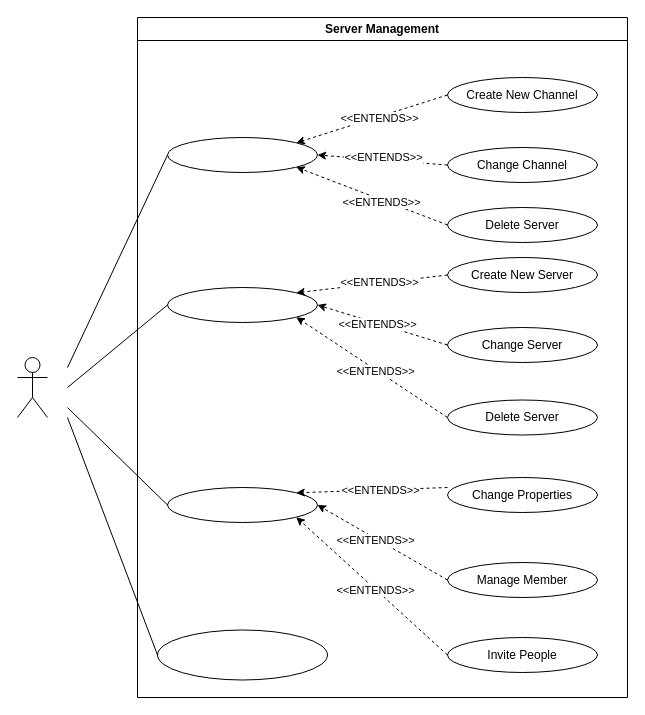
This 645x715 diagram has some shape labels left out. The shapes that lost their labels are listed below. From the top down, each one's centre as x and y in pixels, then its label:
At point 242,154: "Channel Manipulation".
At point 242,304: "Server Manipulation".
At point 32,387: "User".
At point 242,504: "Settings".
At point 242,654: "Search Member / Channel".
